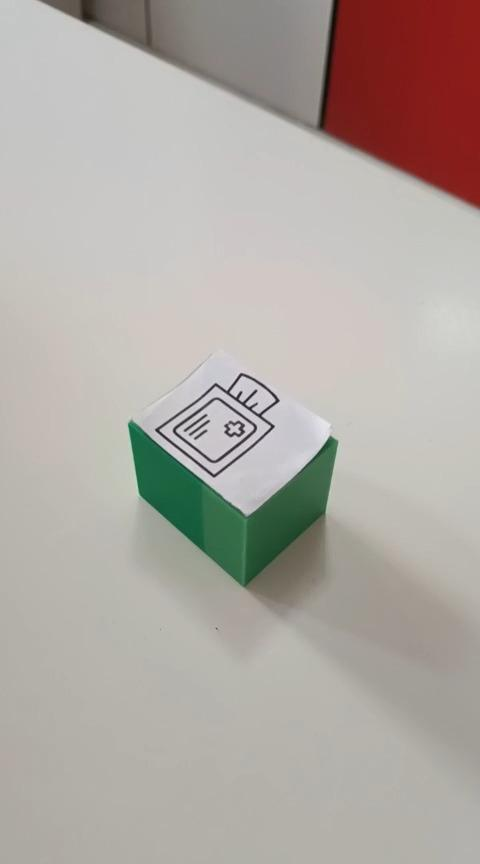Gauze: (126, 349, 338, 588)
